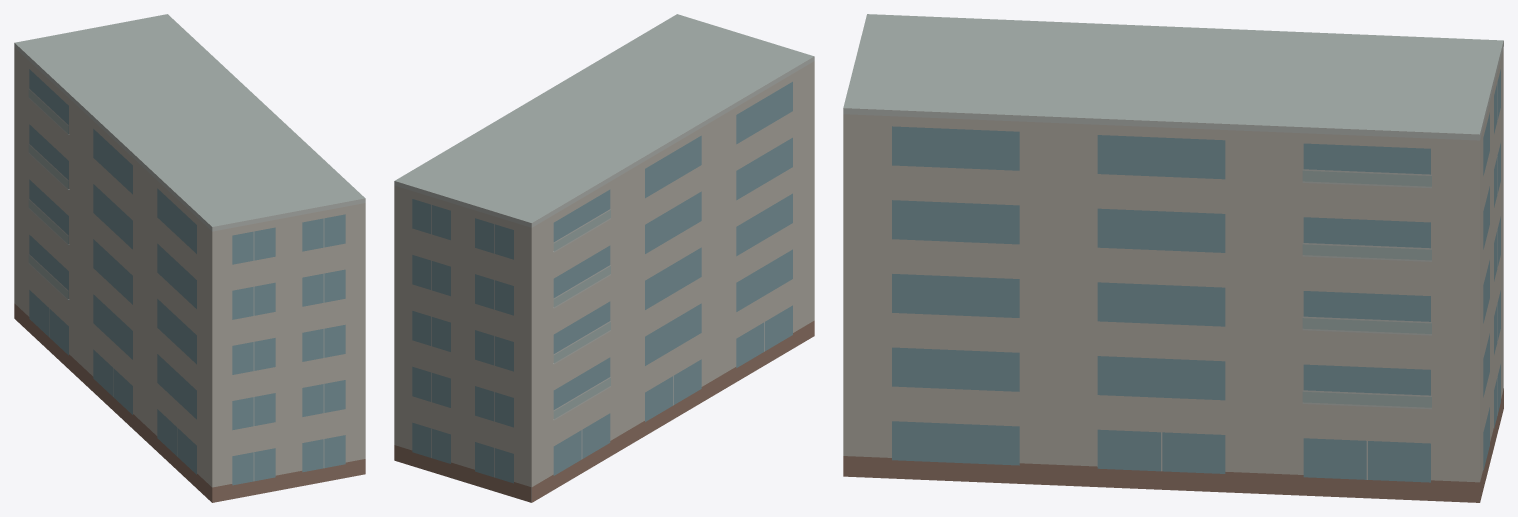
The model's file is survey-upis-32567008.glb.
3 renders of one model, left to right at view 1: azimuth 30°, elevation 25°; view 2: azimuth 150°, elevation 25°; view 3: azimuth 270°, elevation 25°, orthographic. The views are drawn at different scales.
Visible parts, largest first — view 1: survey-upis-32567008.tmp; view 2: survey-upis-32567008.tmp; view 3: survey-upis-32567008.tmp.
Part boxes in pixels (box(x1,y1,x2,y2)): survey-upis-32567008.tmp: box(14, 14, 365, 502); survey-upis-32567008.tmp: box(394, 14, 814, 502); survey-upis-32567008.tmp: box(843, 14, 1503, 502).
Bounding box in the file's own units: 10.32 × 14.7 × 23.9.
